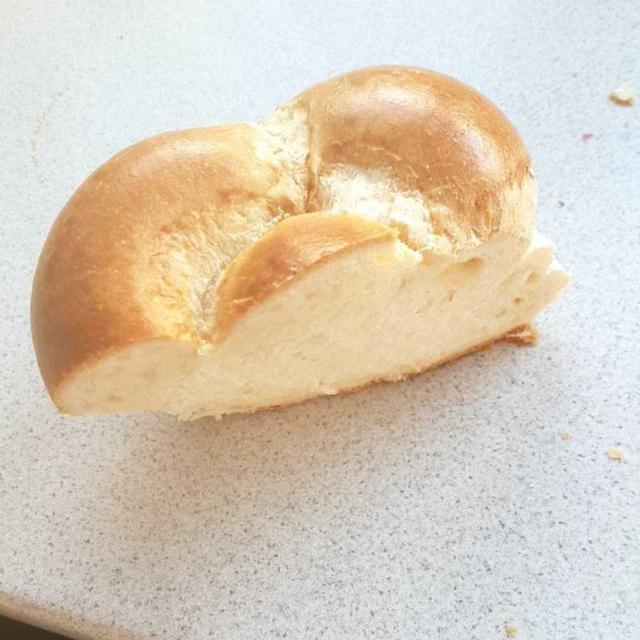bread: (42, 78, 564, 414)
